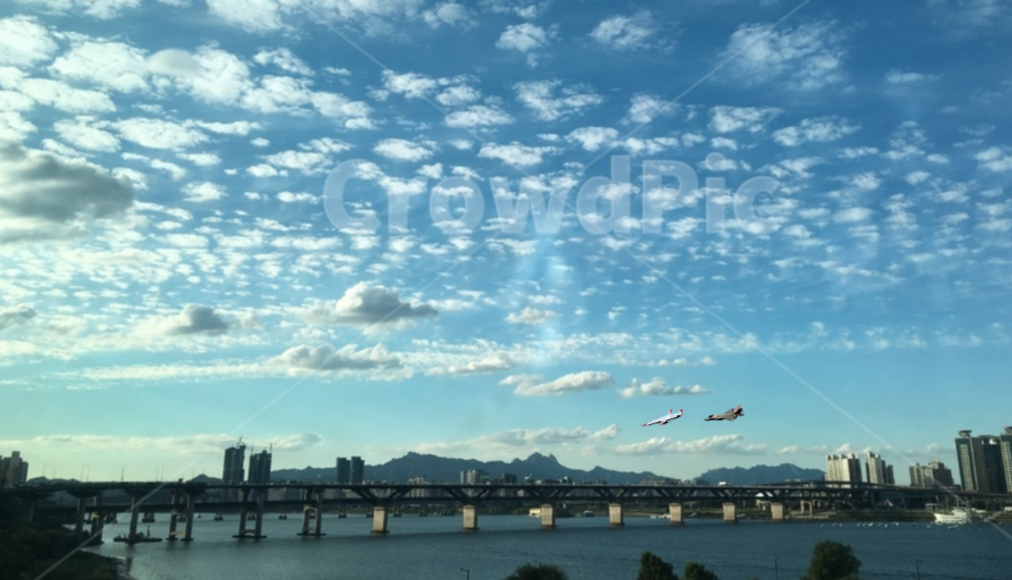airplane: (703, 404, 745, 421)
military drone: (640, 408, 683, 426)
